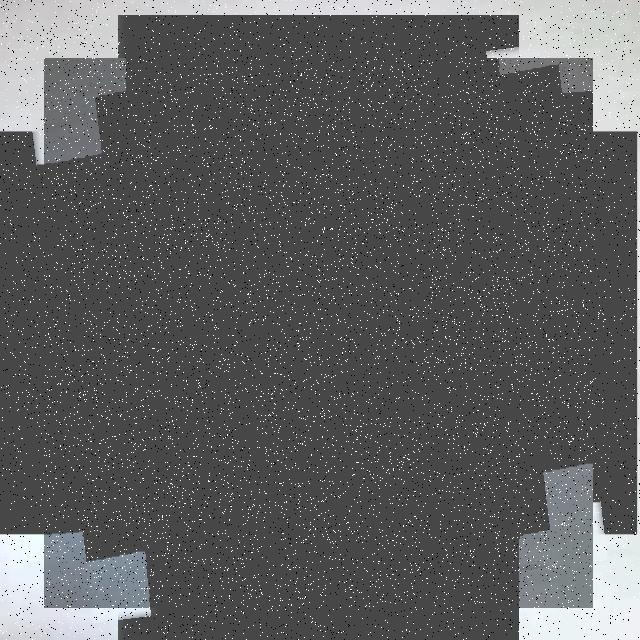lima puluh ribu rupiah: (44, 58, 593, 608)
